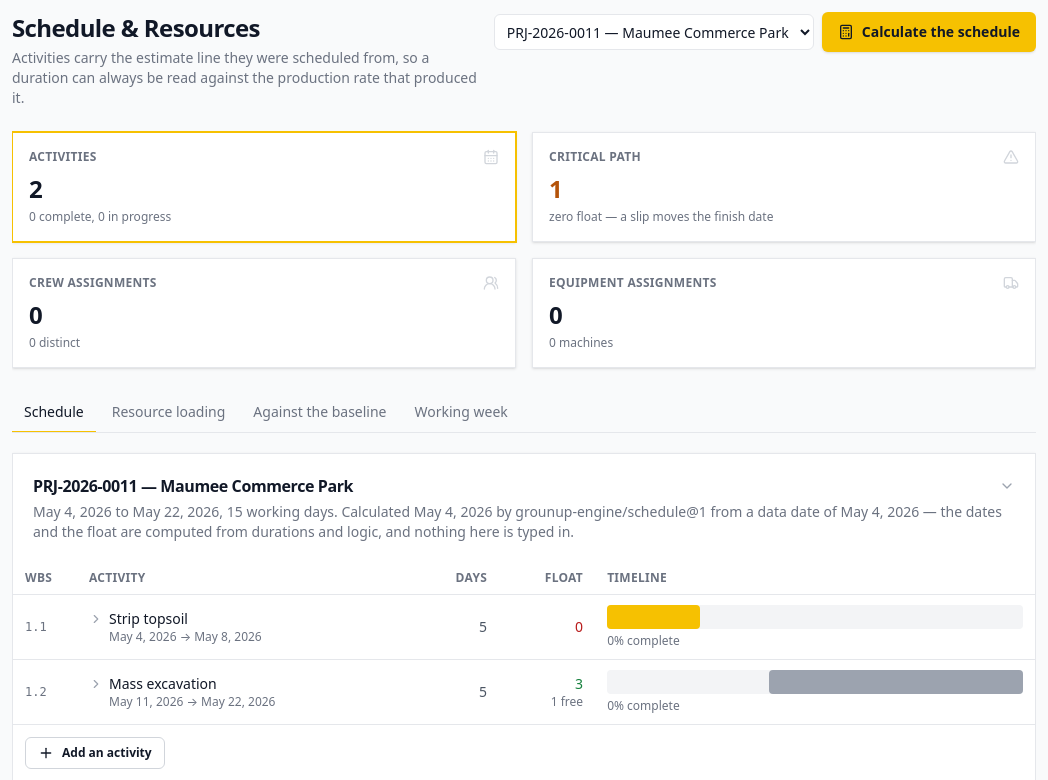
Test: a schedule that has been calculated › narrows to the critical path when the tile is pressed
Expected: the button "Mass excavation" is shown, left=89, top=674, right=217, bottom=694
Click the button with aria-label "only the activities on the critical path" at (595, 156), box left=532, top=132, right=1036, bottom=242
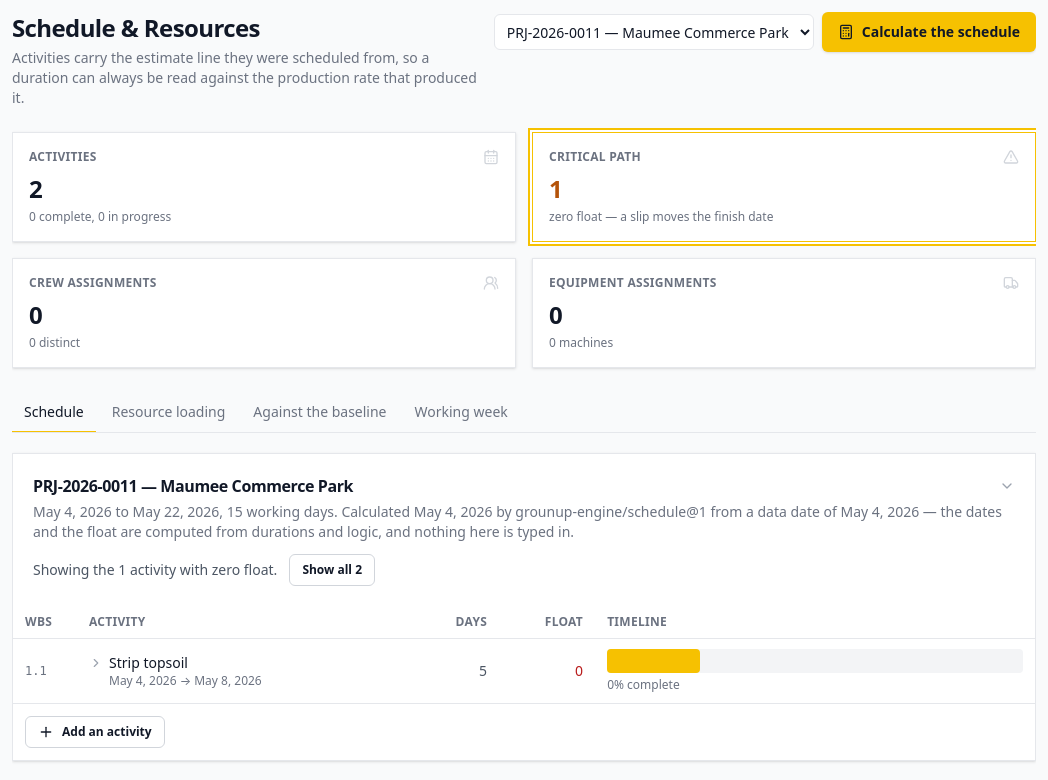
Expected: the button "Strip topsoil" is shown, left=89, top=653, right=188, bottom=673
Result: the button "Mass excavation" is gone
